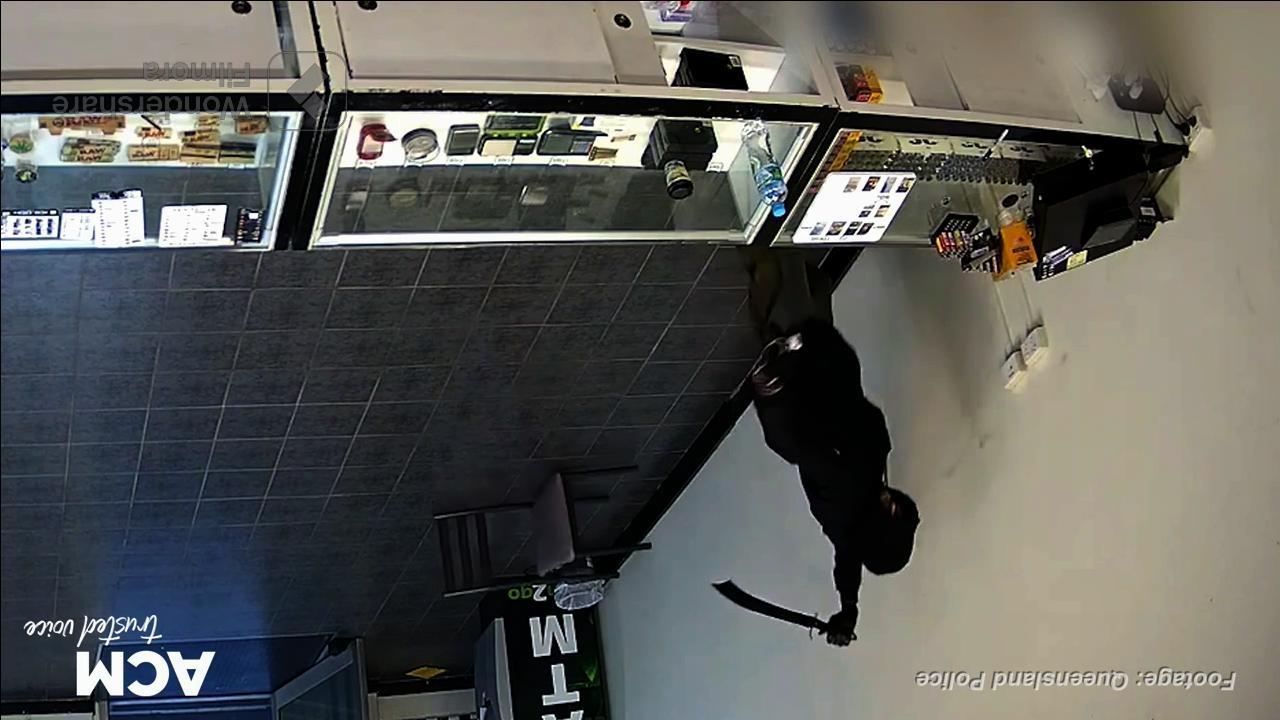melee: (710, 574, 841, 642)
